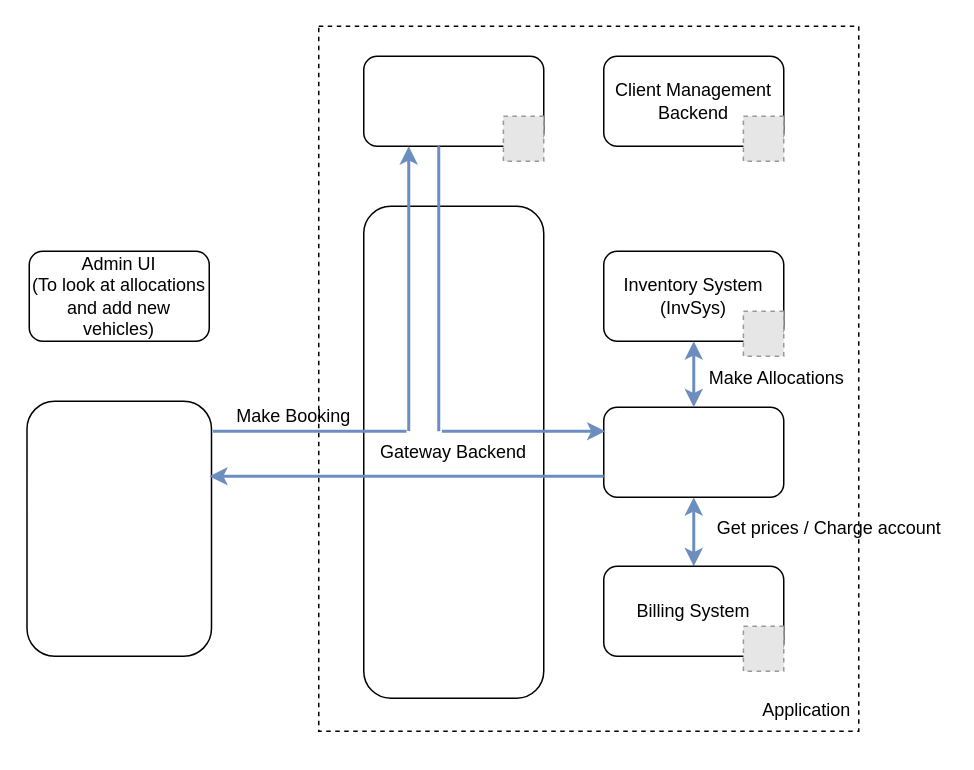
Some shapes in this 974 by 770 pixel diagram are drawn without their labels. Grey dashed boxes stand in for pictures. The shapes that lost their labels are listed below. From the top down, each one's box as (x1, y1, x2, y2) in pixels, then its label:
(362, 55, 544, 146): Authentication Backend
(602, 406, 784, 497): Booking System
(26, 400, 212, 656): User UI (To make bookings)
